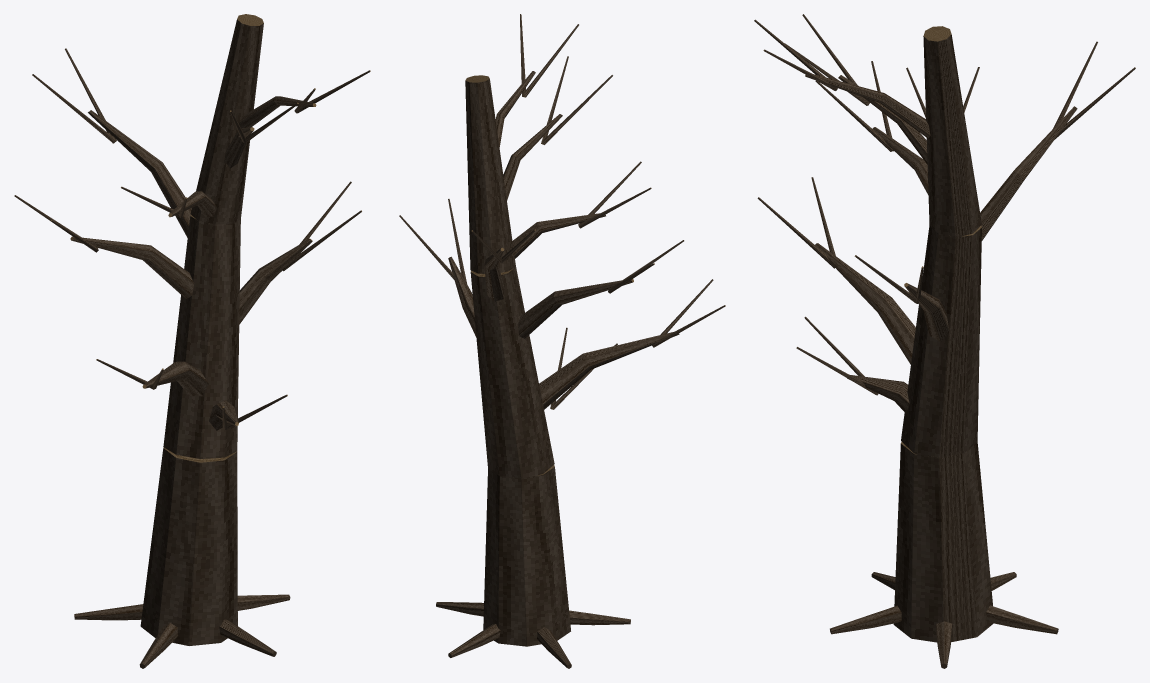
The model's file is env_trees_04_gnarled.glb.
The picture shows the model from 3 angles, left to right: view 1: azimuth 30°, elevation 25°; view 2: azimuth 150°, elevation 25°; view 3: azimuth 270°, elevation 25°; orthographic projection. The views are drawn at different scales.
Visible parts, largest first — view 1: solid; view 2: solid; view 3: solid.
Part boxes in pixels (x1,y1,x2,y2): solid: [14, 14, 370, 668]; solid: [399, 14, 725, 668]; solid: [754, 14, 1135, 668].
Bounding box in the file's own units: 2.24 × 4.13 × 2.31.
1 material, 1 textured.
